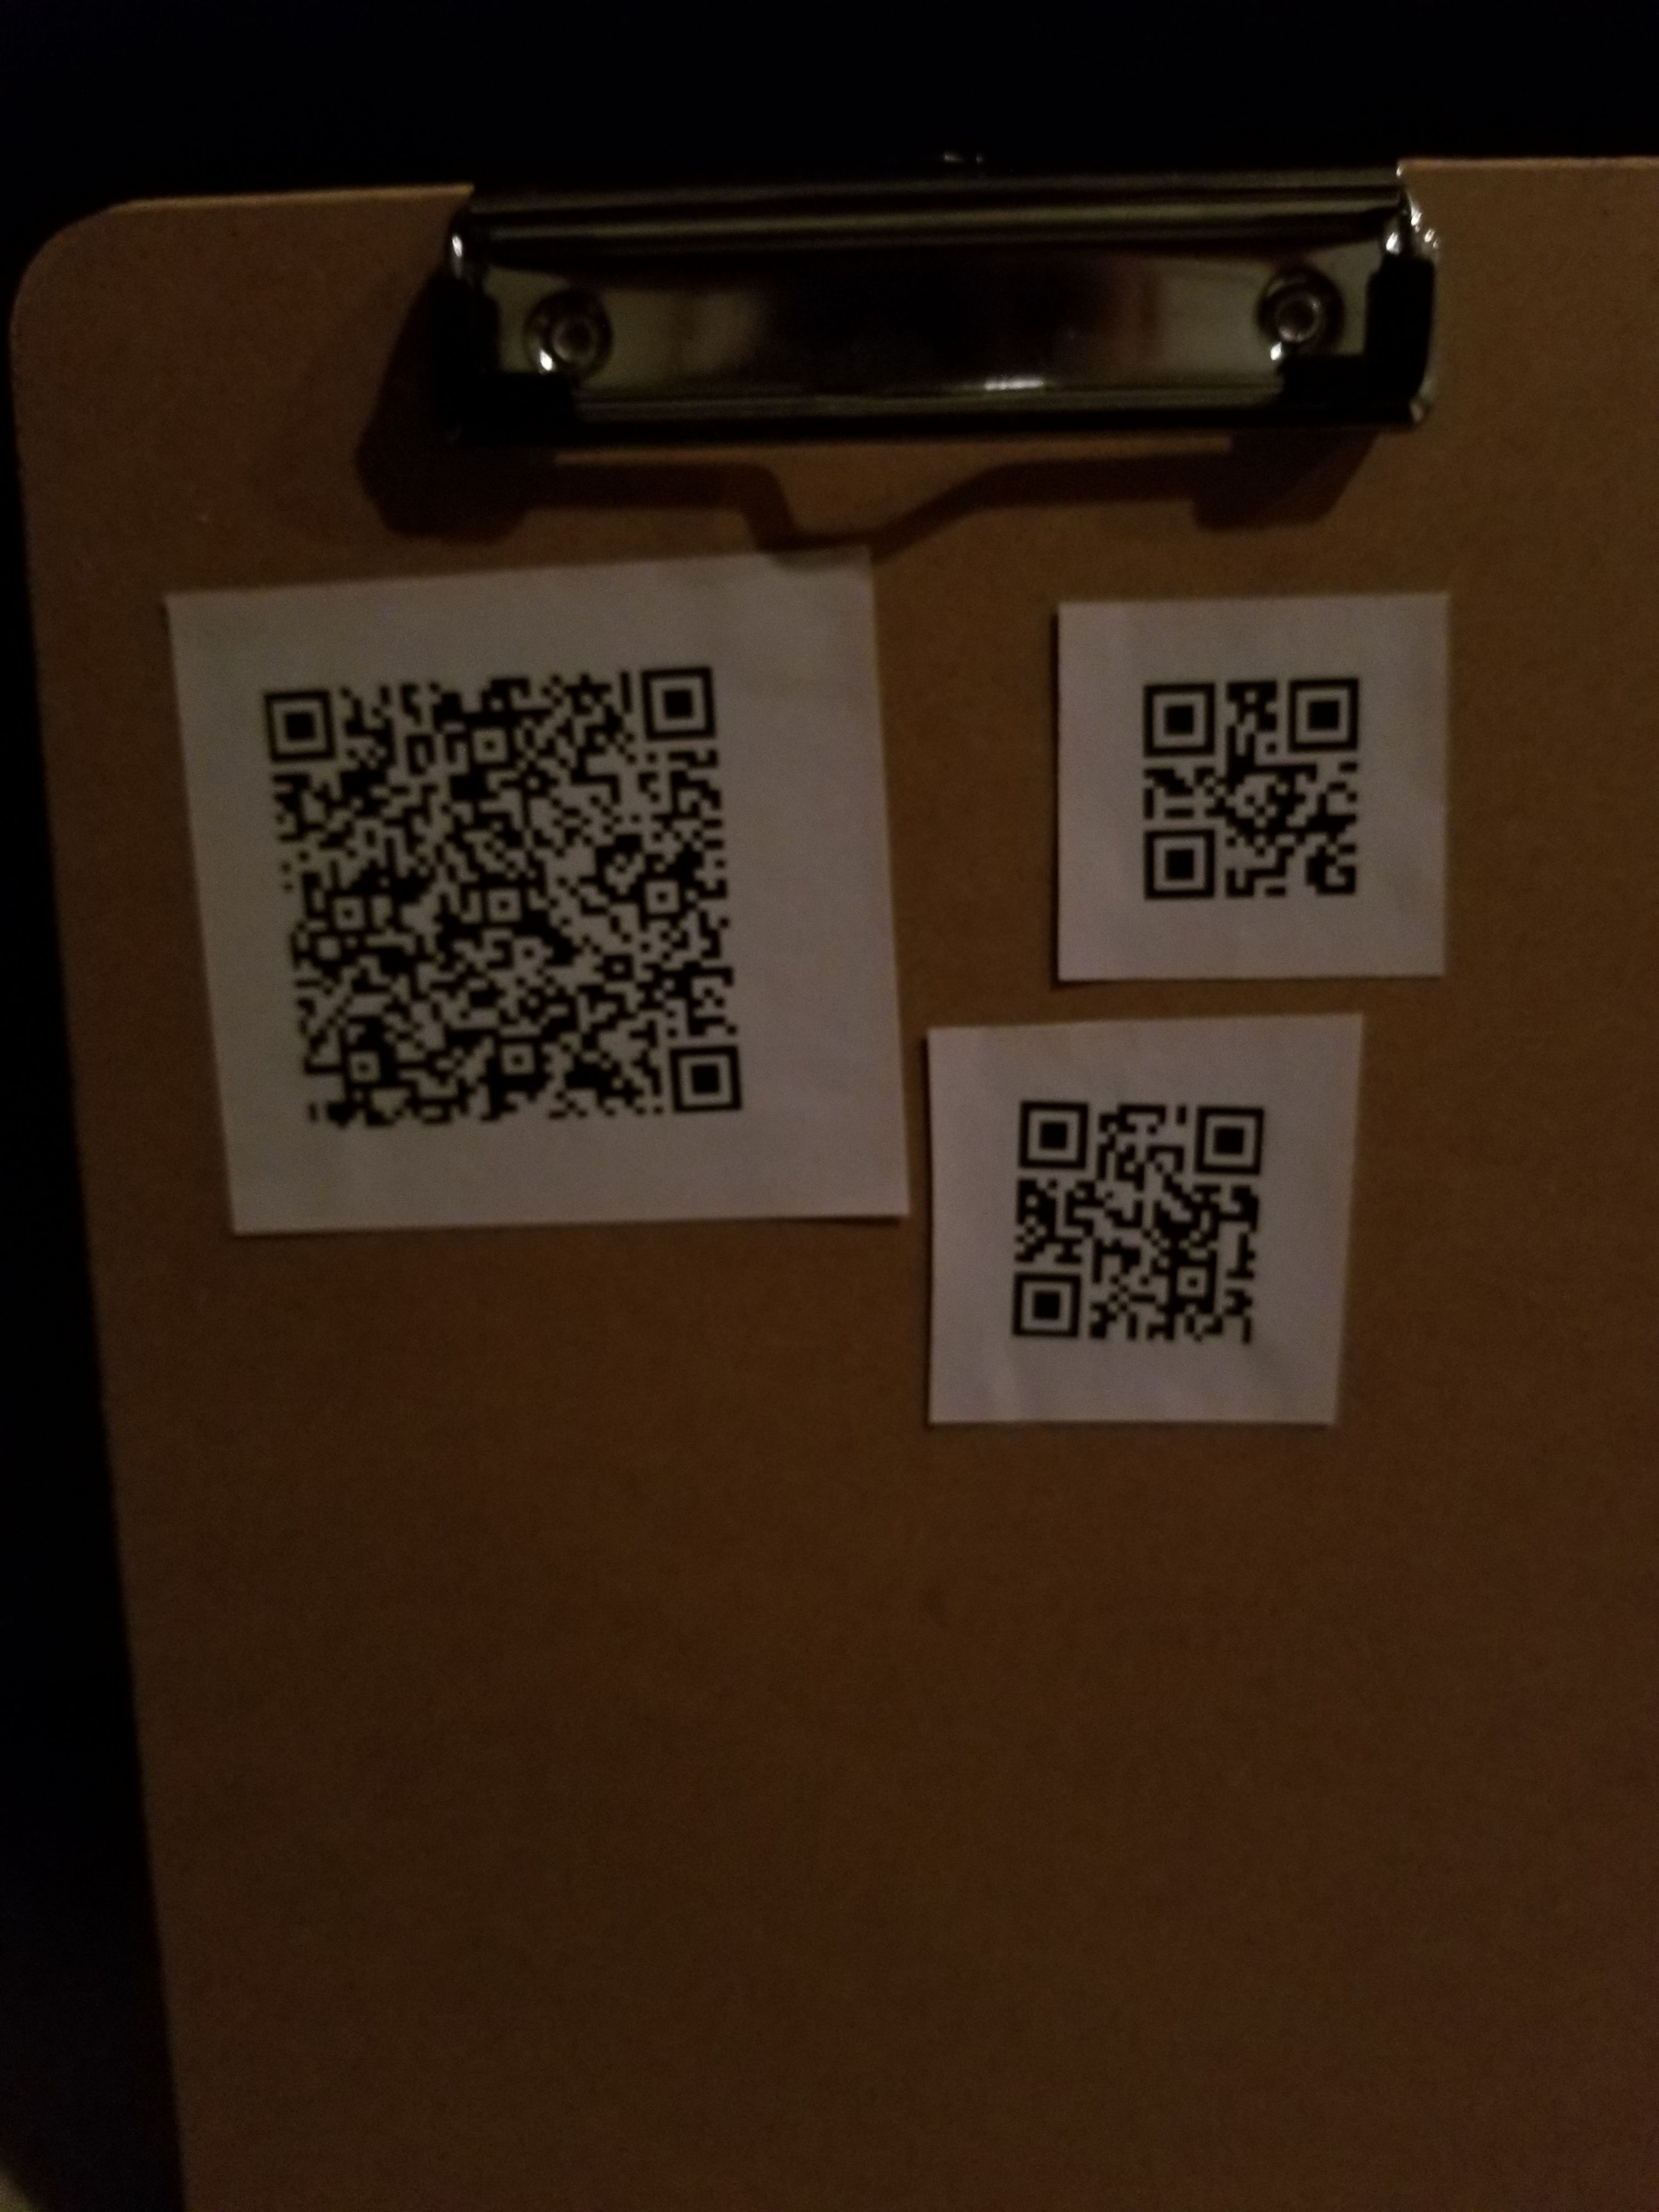QR_CODE: (214, 571, 784, 1200), (964, 1028, 1300, 1390), (1086, 603, 1424, 946)
